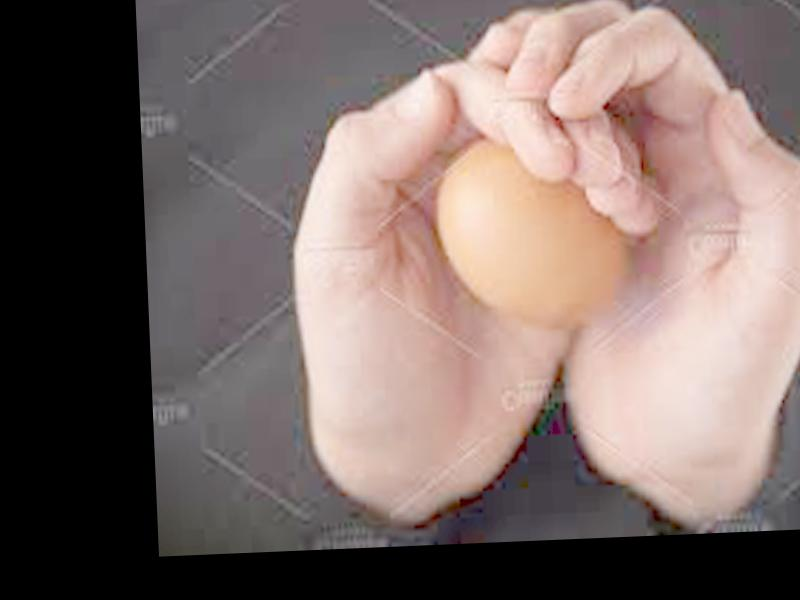Eggs: (433, 139, 638, 334)
